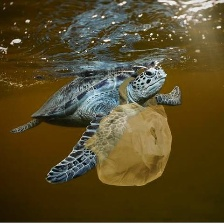plastic_bag: (84, 73, 177, 190)
